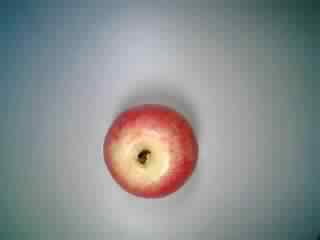apple: (95, 100, 200, 202)
